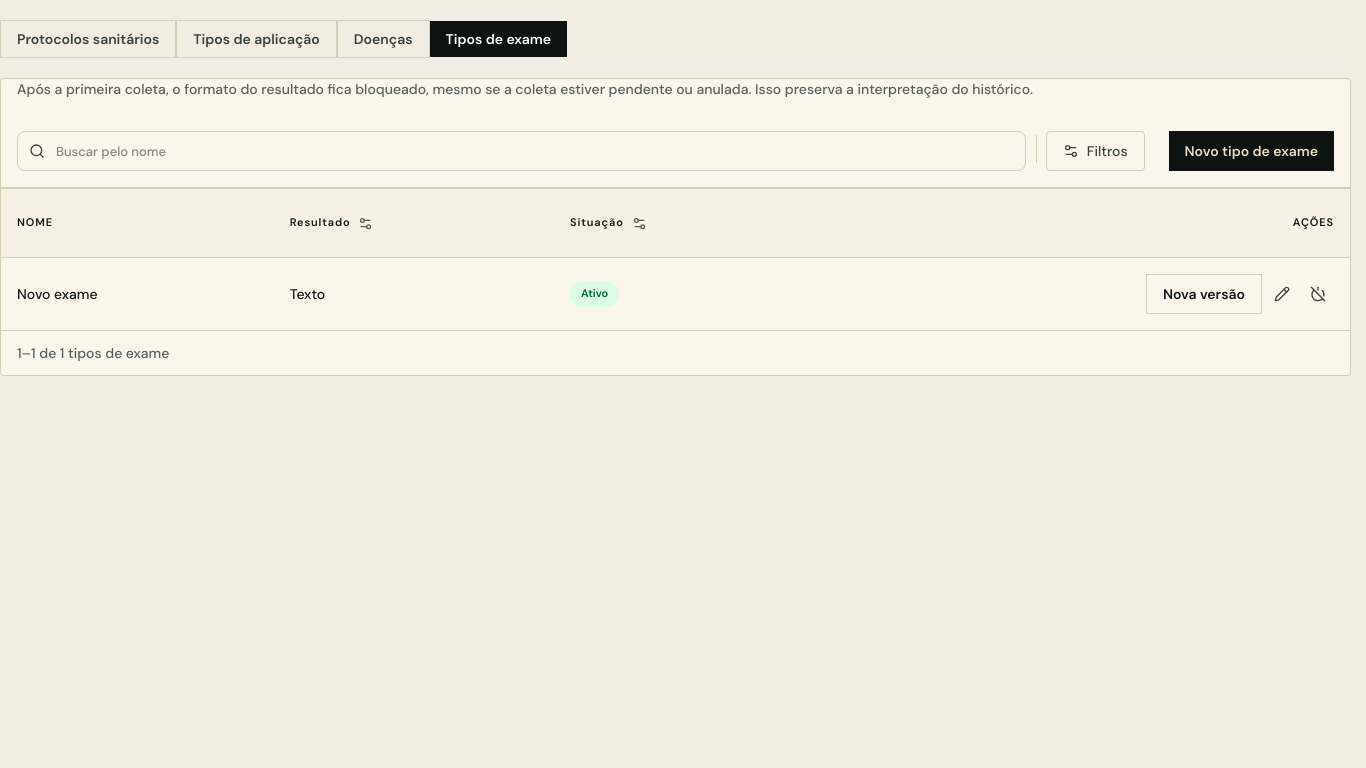
Scenario: Cadastros sanitários › tipo sem coleta e novo tipo permitem configurar formato
Click the button named "Editar Novo exame". click: (1282, 294)
box: [1266, 274, 1298, 314]
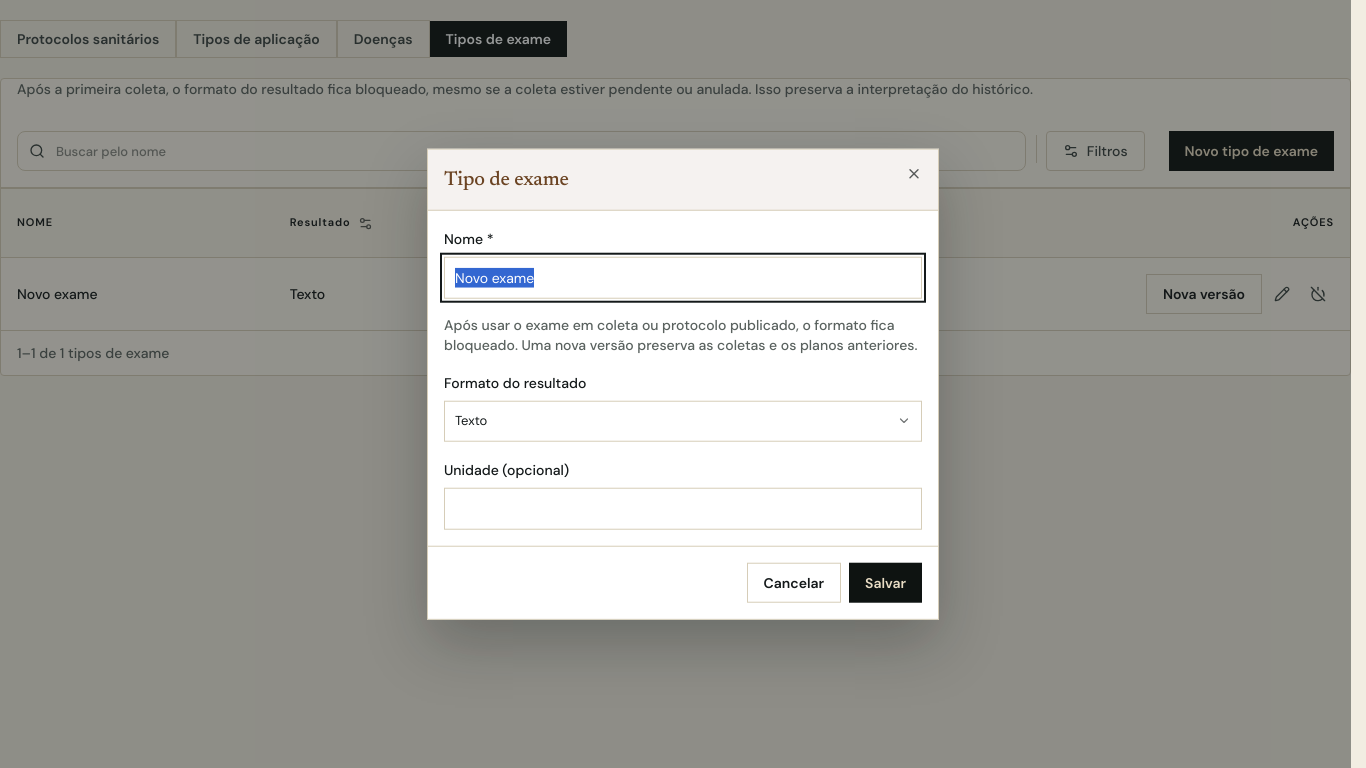
Check: the dropdown named "Formato do resultado" is enabled, box [444, 401, 922, 441]
Click the button "Cancelar". click: (794, 582)
box: [747, 562, 841, 602]
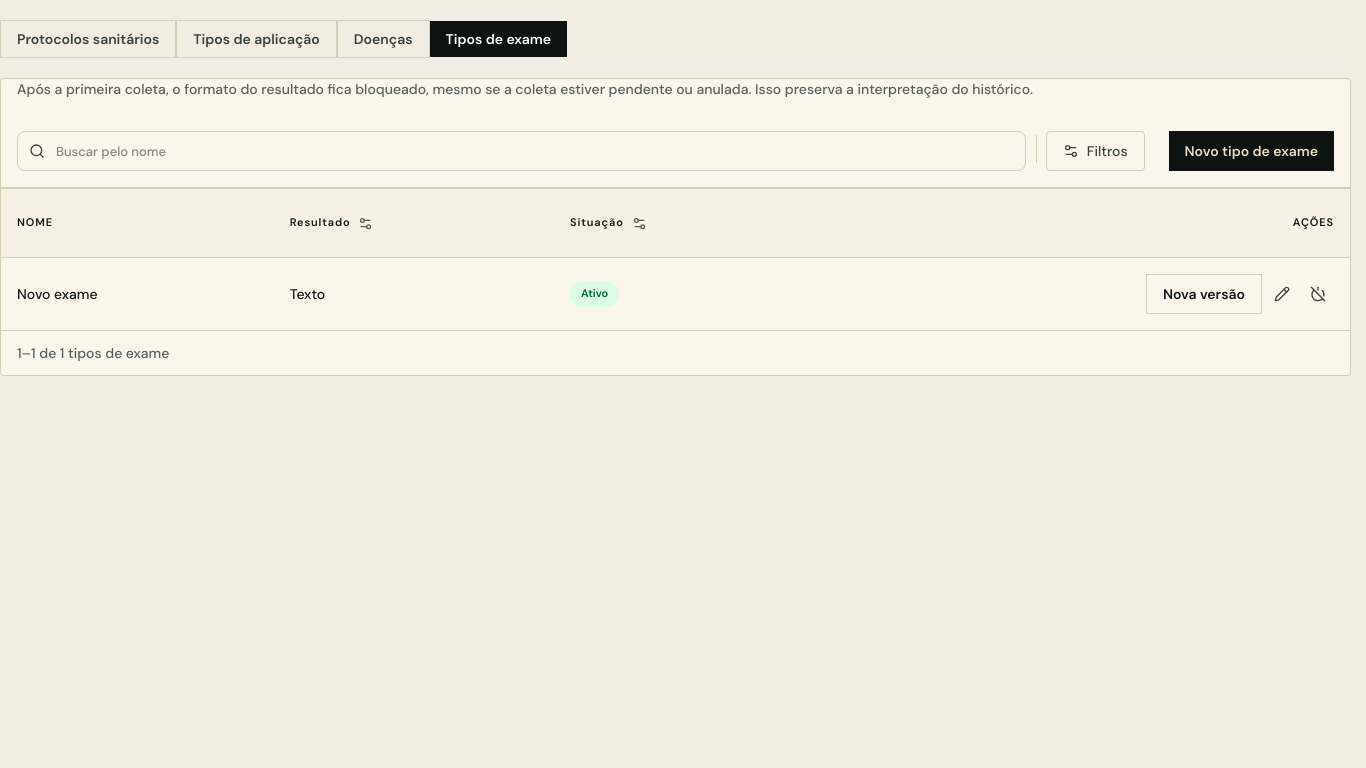
Click the button "Novo tipo de exame". click: (1251, 151)
box: [1169, 131, 1334, 171]
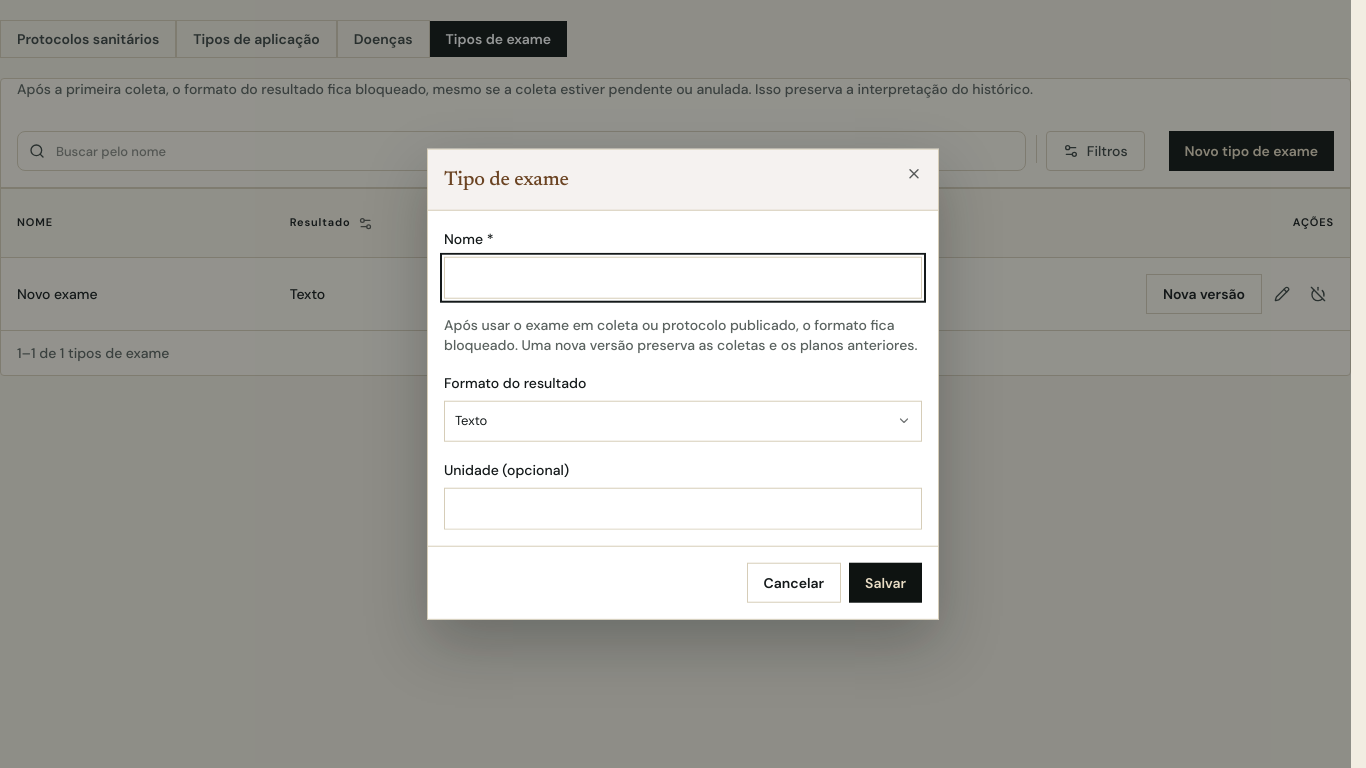
Check: the dropdown named "Formato do resultado" is enabled, box [444, 401, 922, 441]
